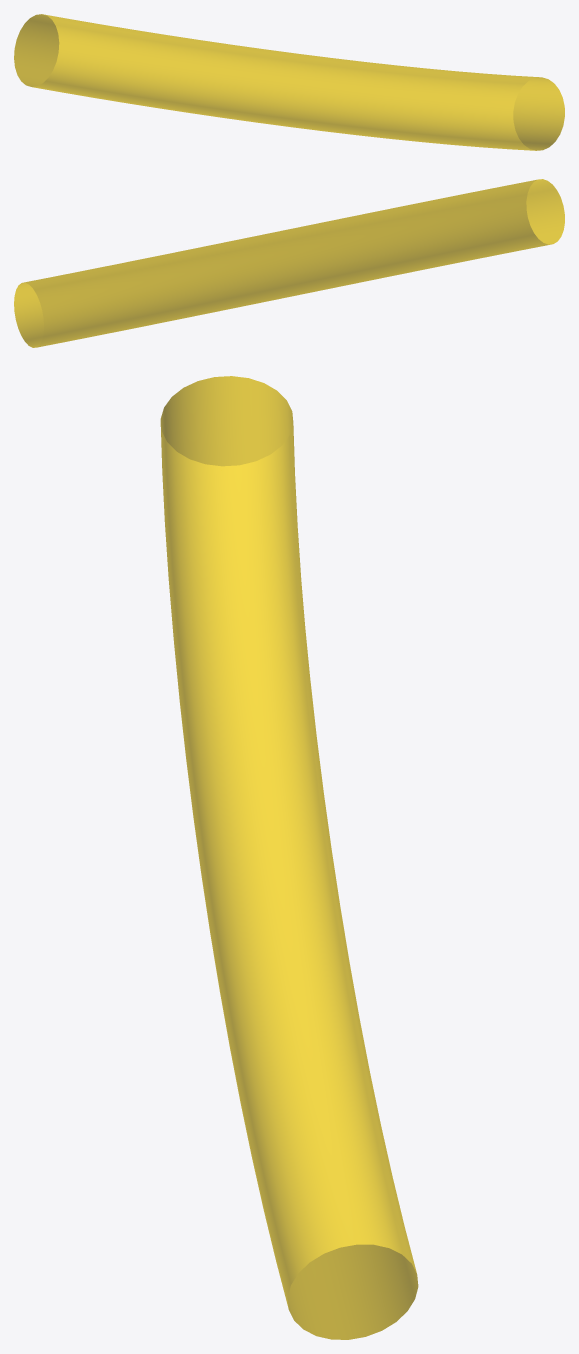
File: Event_75125125_track_77.fbx
3 views of the same model, one above another, from view 1: azimuth 30°, elevation 25°; view 2: azimuth 150°, elevation 25°; view 3: azimuth 270°, elevation 25° (orthographic). The views are drawn at different scales.
Parts seen in each view (by area): view 1: Model; view 2: Model; view 3: Model.
Boxes of the visible parts, x1,y1,x2,y2 form: Model: [14, 14, 564, 150]; Model: [14, 179, 564, 347]; Model: [160, 376, 418, 1339].
Bounding box in the file's own units: 0.3516 × 0.169 × 0.0774.
